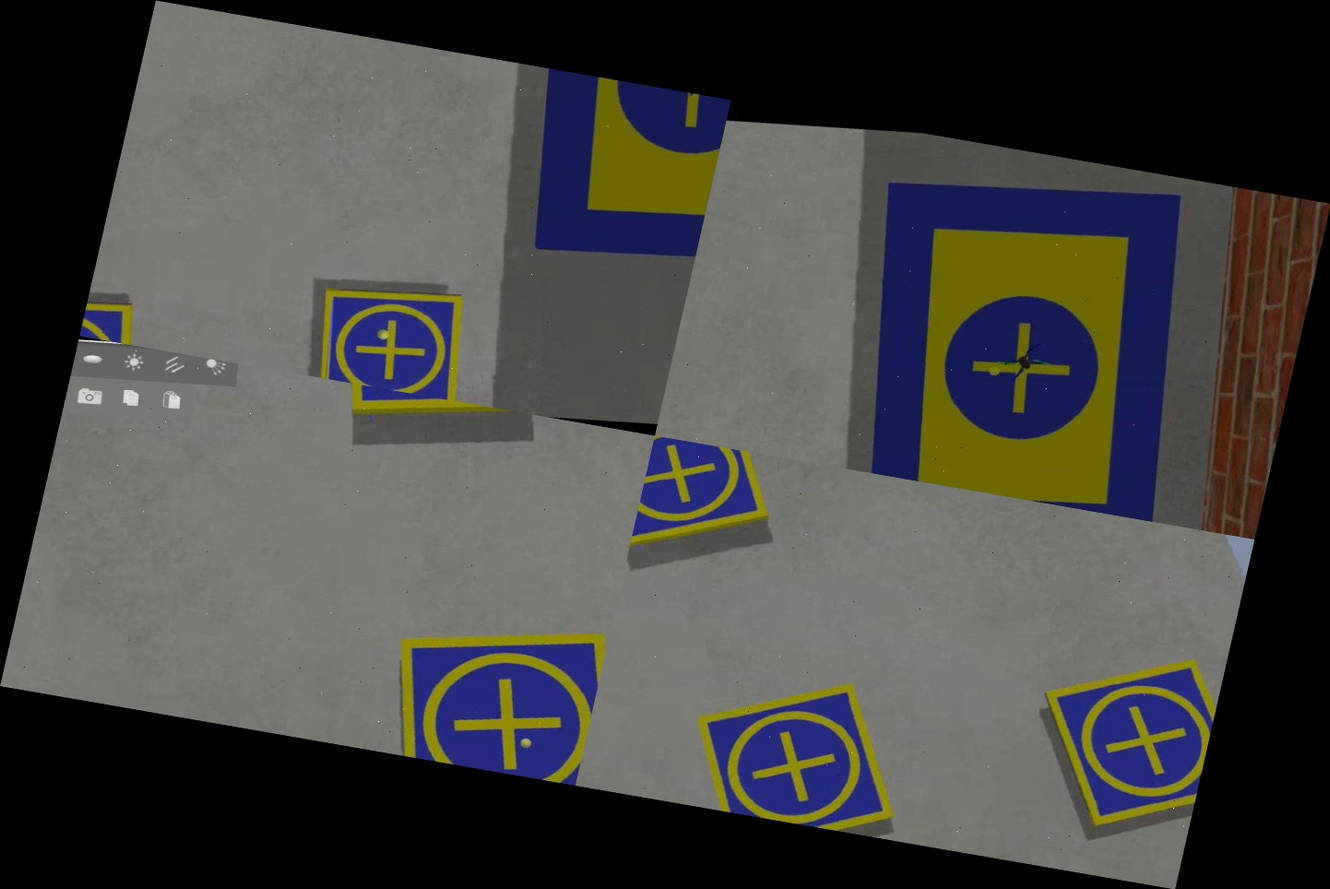large_base: (823, 146, 1229, 522), (481, 64, 730, 275)
small_base: (1009, 630, 1226, 851), (675, 655, 928, 840), (373, 596, 611, 785), (303, 268, 481, 401), (628, 435, 788, 576), (341, 383, 544, 446), (79, 293, 148, 346)
